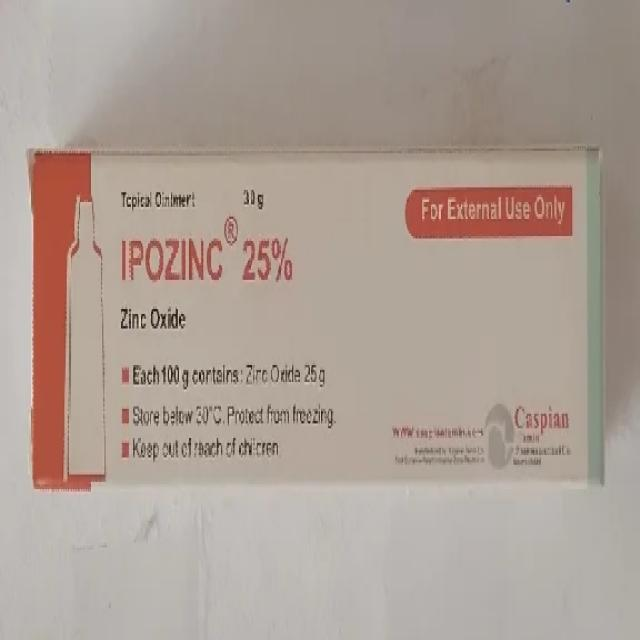drug-name: (115, 234, 298, 286)
